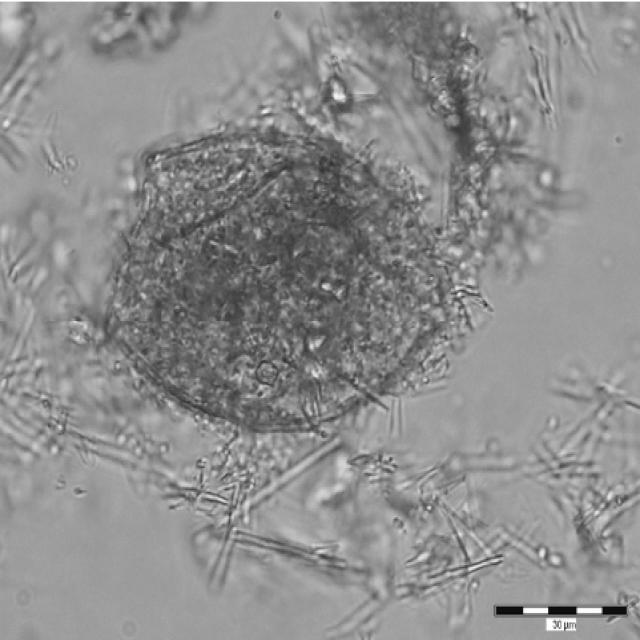Fasciola Hepatica: (70, 108, 469, 446)
